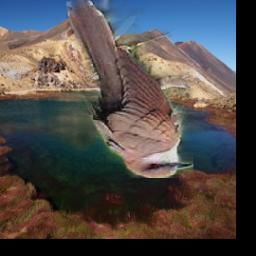Cuckoo: (66, 0, 193, 179)
